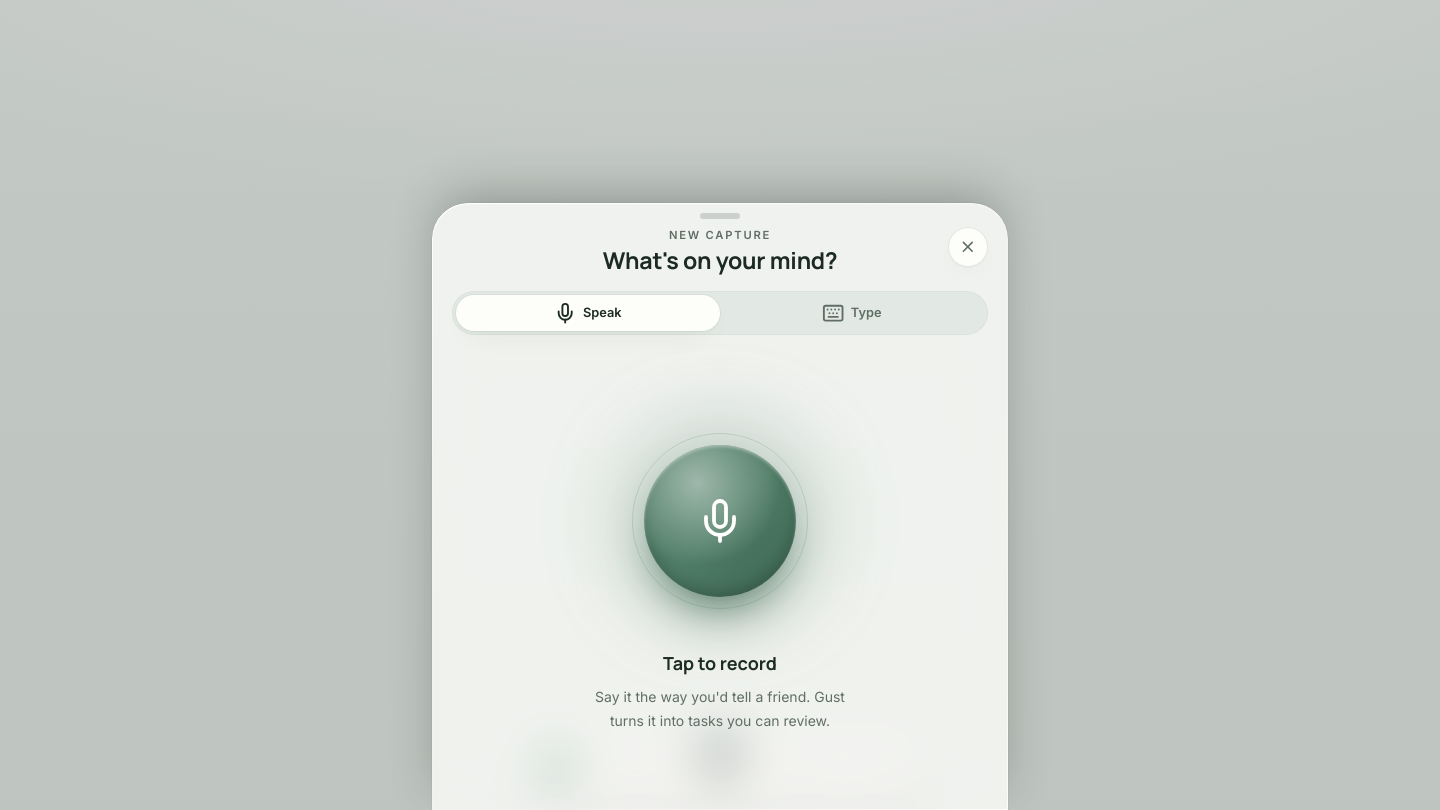
Test: capture route › routes text capture through staging review before submit
Click the radio button labelled "Type" at (852, 312), box [720, 294, 984, 330]
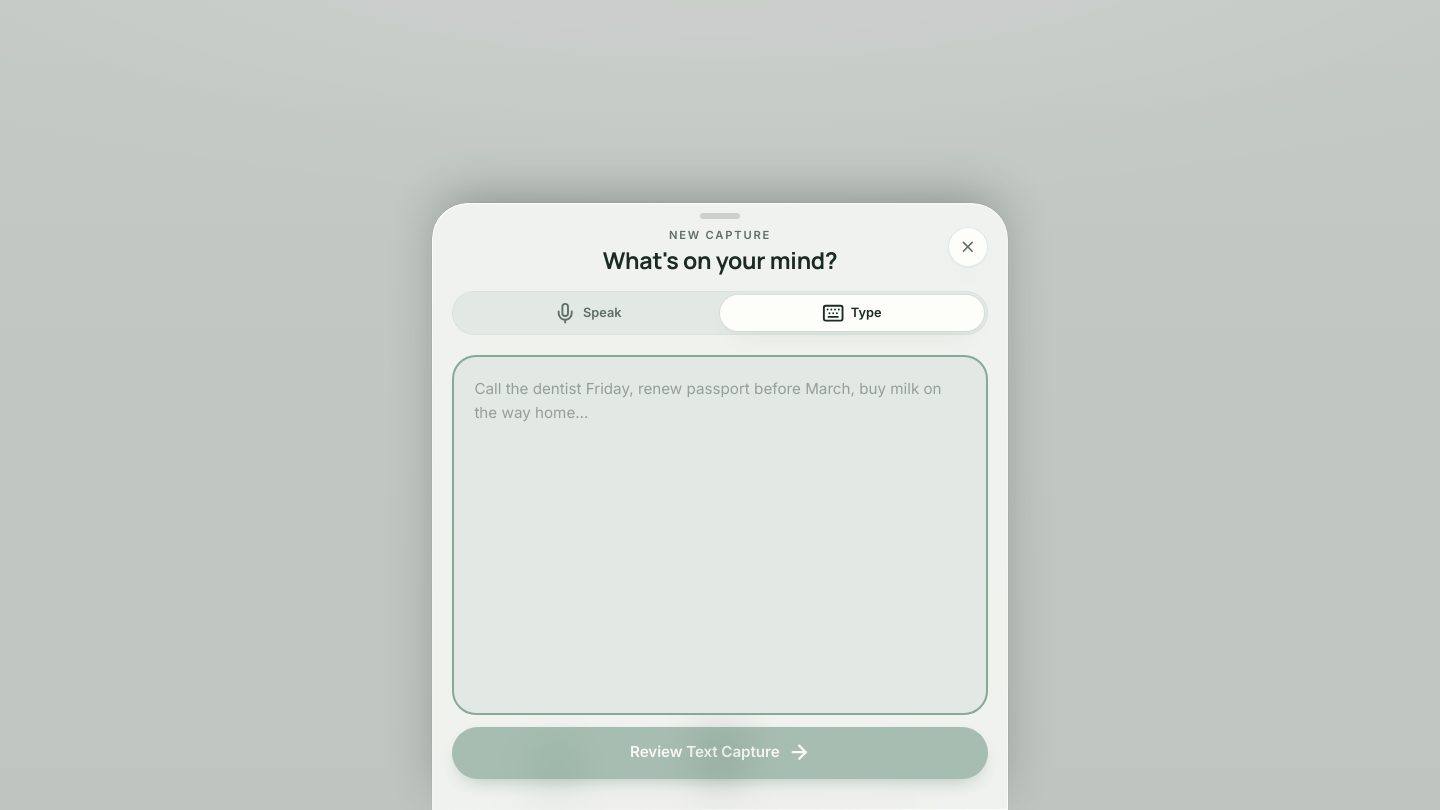
Type "call the dentist" into the text box named "Write it instead" at (720, 534), box [452, 354, 988, 714]
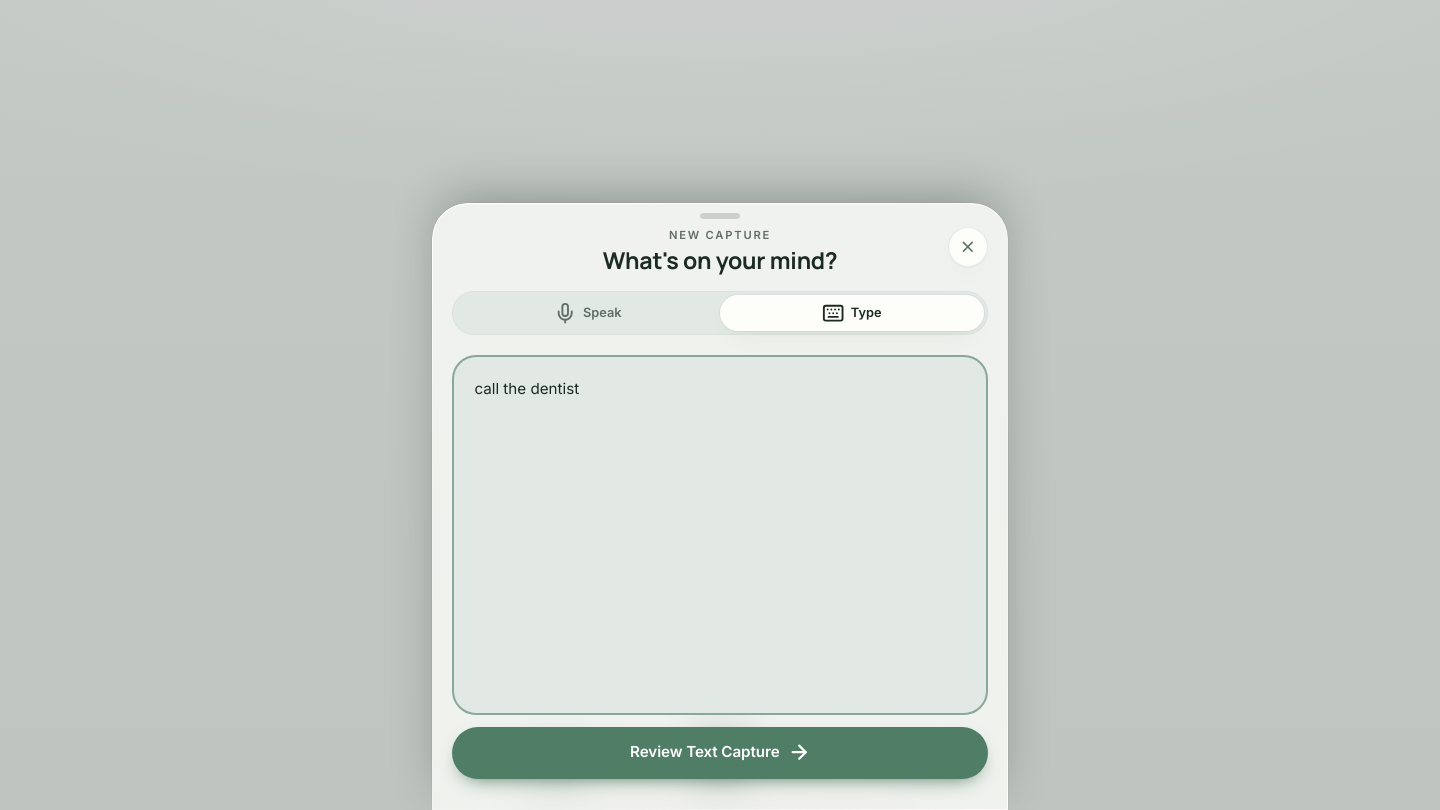
Click the button "Review Text Capture" at (720, 752), box [452, 726, 988, 778]
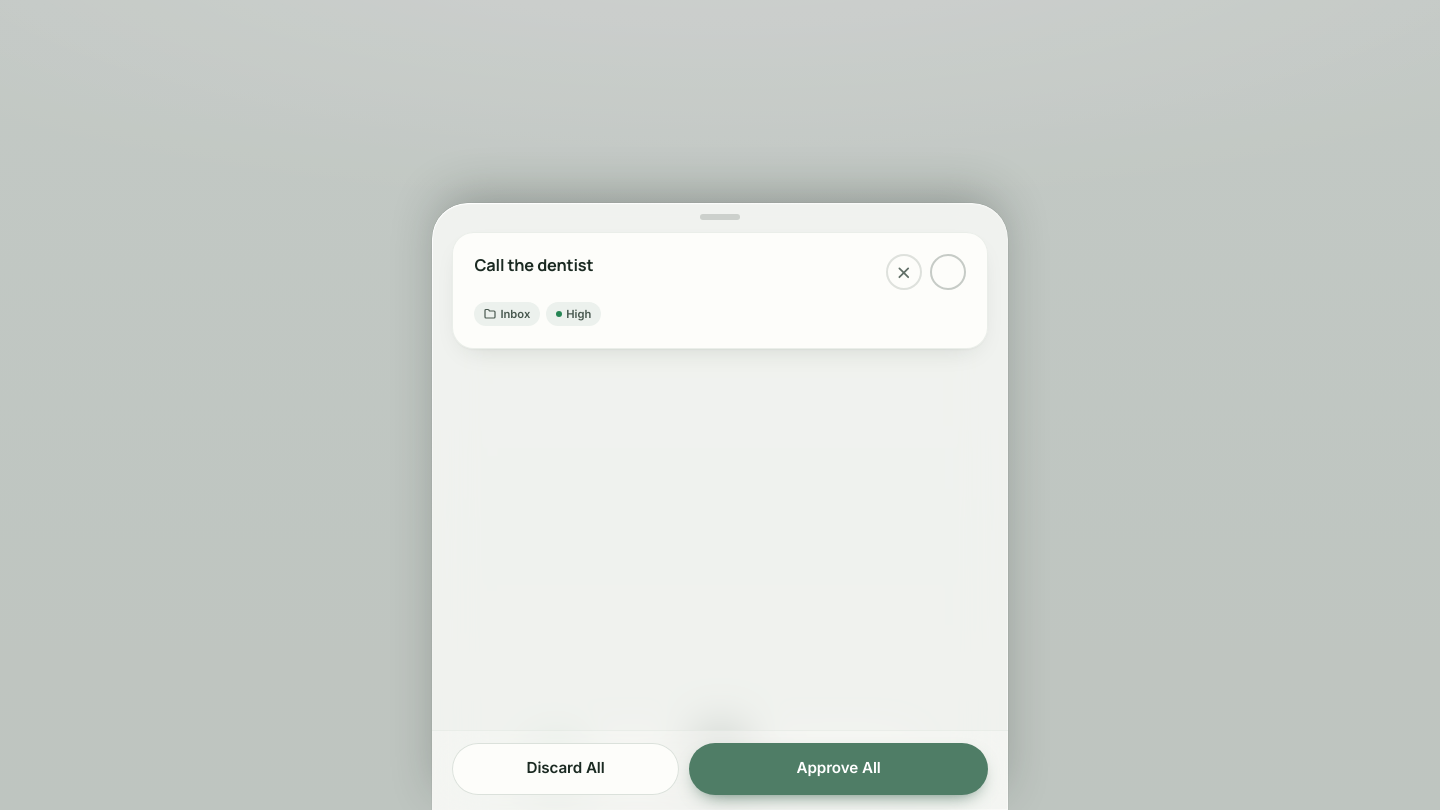
Expected: the heading "Call the dentist" is shown, [474, 254, 593, 276]
Expected: the button "Approve All" is shown, [689, 742, 988, 794]
